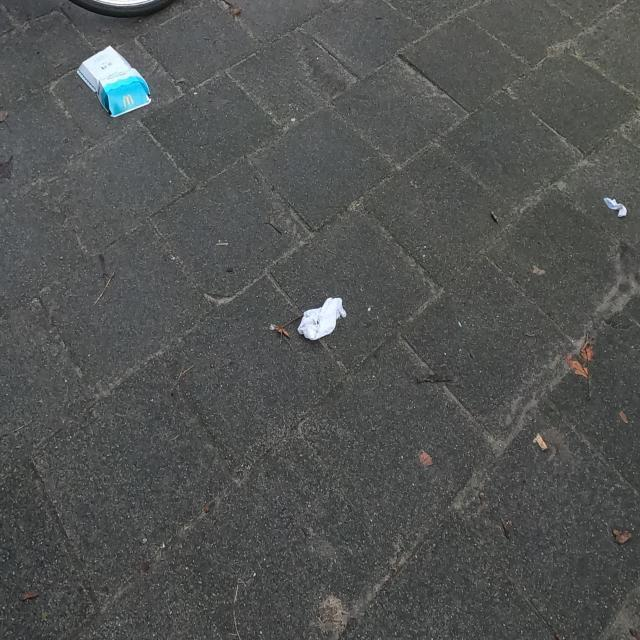Paper: (76, 43, 152, 119), (296, 294, 347, 344)
